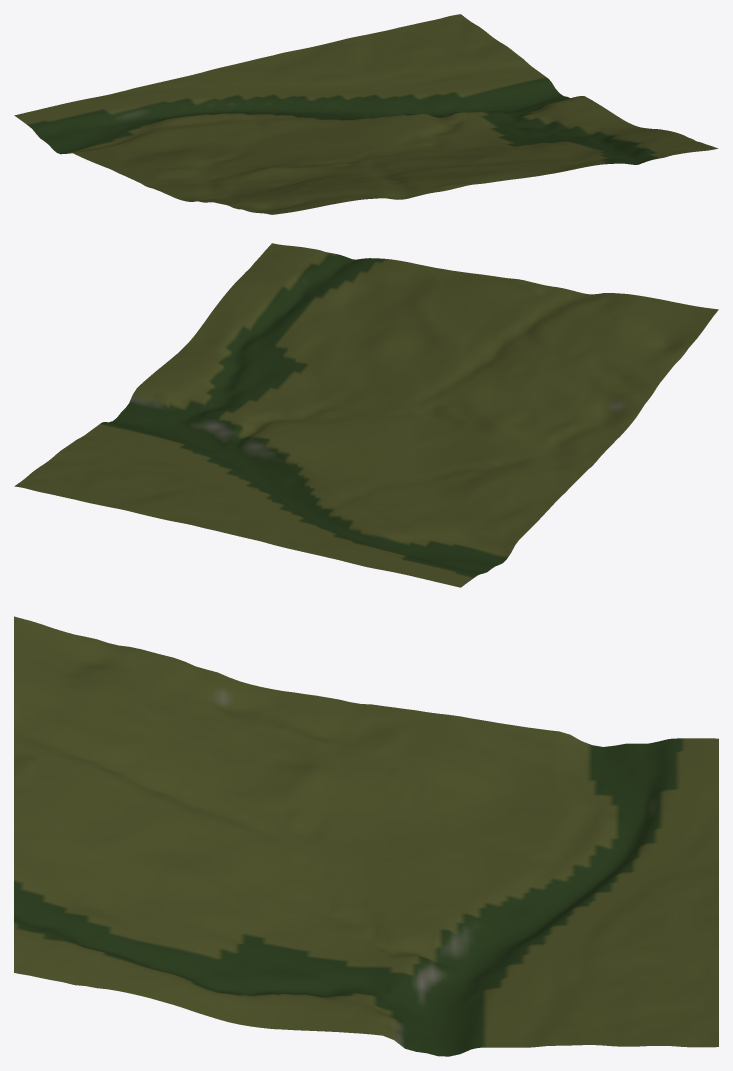
The model's file is terrain_14_-10.glb.
3 views of the same model, one above another, from view 1: azimuth 30°, elevation 25°; view 2: azimuth 150°, elevation 25°; view 3: azimuth 270°, elevation 25° (orthographic). The views are drawn at different scales.
Parts seen in each view (by area): view 1: terrain_14_-10; view 2: terrain_14_-10; view 3: terrain_14_-10.
Part boxes in pixels (box(x1,y1,x2,y2)): terrain_14_-10: box(14, 14, 718, 214); terrain_14_-10: box(14, 243, 718, 587); terrain_14_-10: box(14, 616, 718, 1056).
Size of the model in its own units: 256 by 57.08 by 256.
